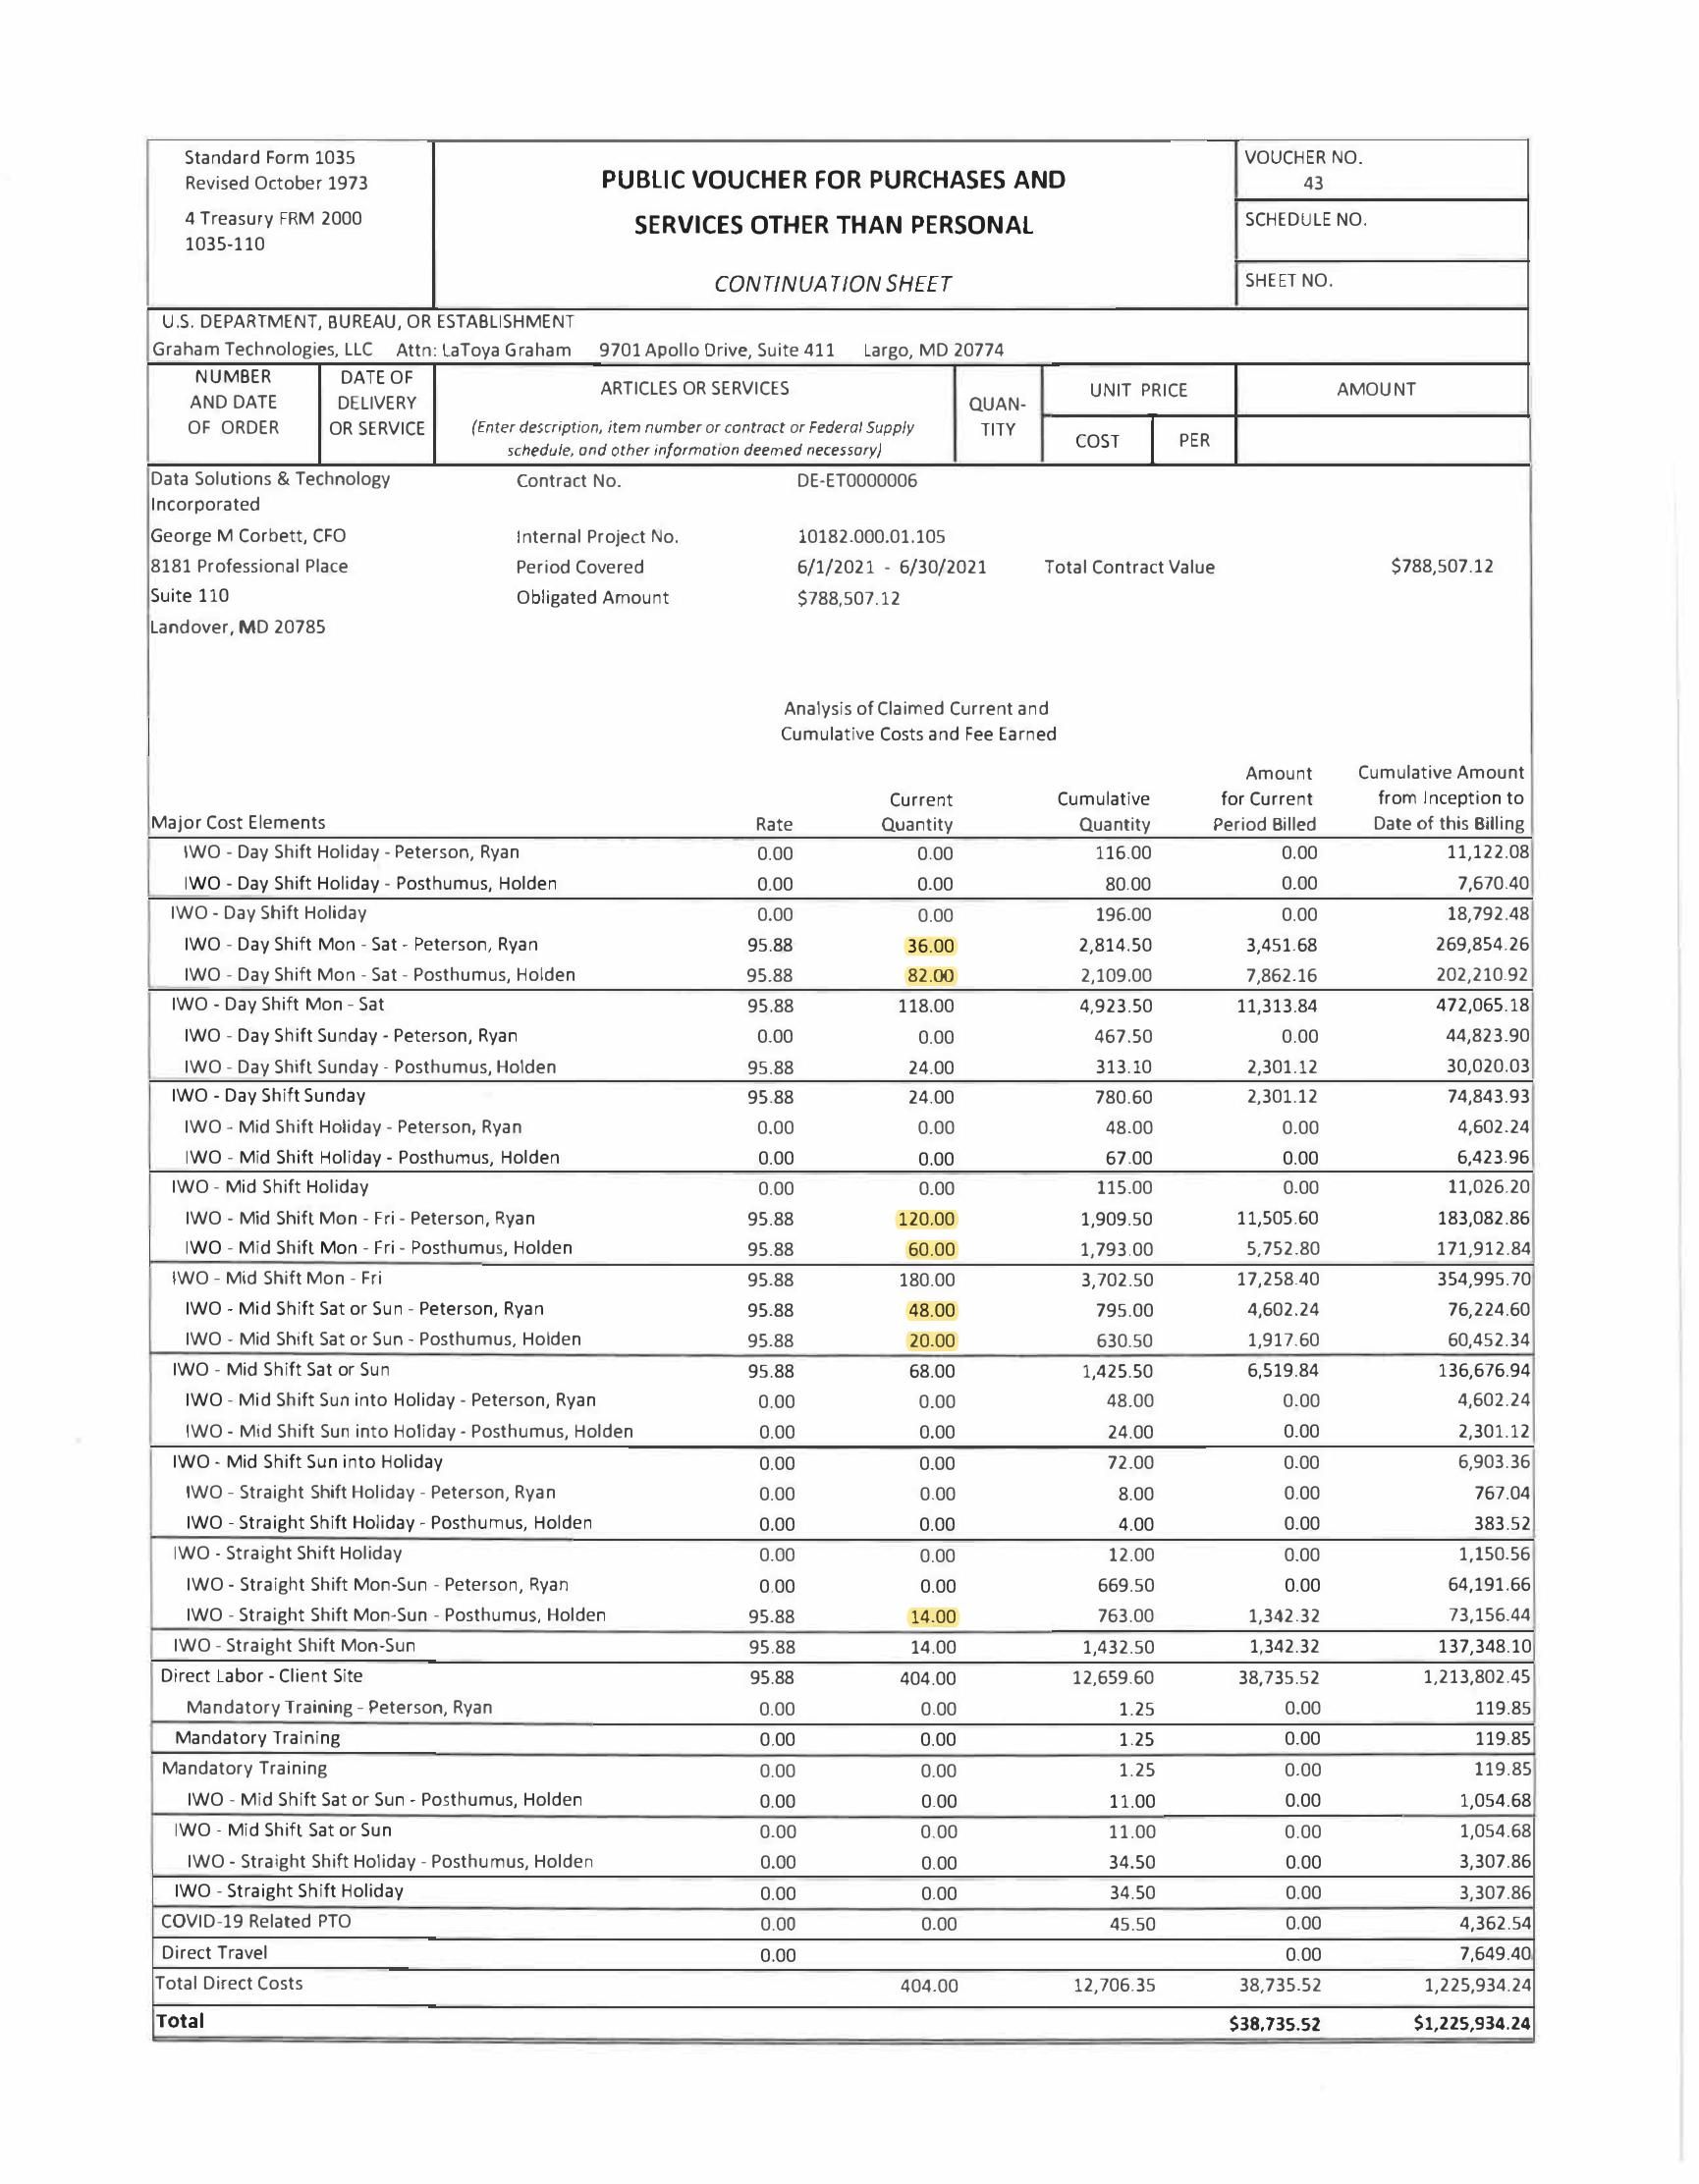table: (144, 750, 1548, 2042)
